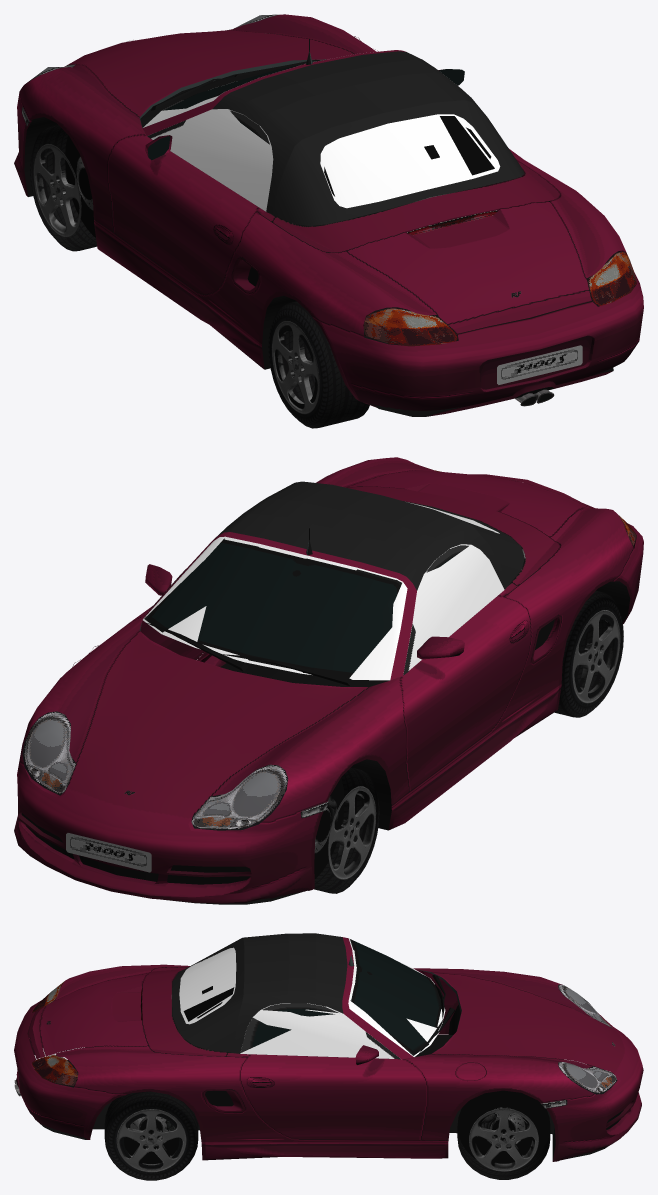
Rendered from ruf_0004.glb.
3 renders of one model, top to bottom at view 1: azimuth 30°, elevation 25°; view 2: azimuth 150°, elevation 25°; view 3: azimuth 270°, elevation 25°, orthographic. The views are drawn at different scales.
Visible parts, largest first — view 1: body, tire_rear_left, tire_front_left, wheel_front_left, wheel_rear_left; view 2: body, tire_rear_left, tire_front_left, wheel_front_left, wheel_rear_left; view 3: body, tire_rear_right, tire_front_right, wheel_front_right, wheel_rear_right.
Boxes of the visible parts, x1=… form: body: x1=14, y1=14, x2=643, y2=416; tire_rear_left: x1=268, y1=301, x2=369, y2=428; tire_front_left: x1=30, y1=125, x2=97, y2=251; wheel_front_left: x1=33, y1=144, x2=81, y2=237; wheel_rear_left: x1=271, y1=321, x2=319, y2=414; body: x1=14, y1=457, x2=643, y2=904; tire_rear_left: x1=554, y1=590, x2=623, y2=717; tire_front_left: x1=314, y1=767, x2=379, y2=893; wheel_front_left: x1=328, y1=786, x2=376, y2=879; wheel_rear_left: x1=572, y1=610, x2=620, y2=703; body: x1=14, y1=933, x2=643, y2=1161; tire_rear_right: x1=104, y1=1091, x2=198, y2=1180; tire_front_right: x1=457, y1=1090, x2=550, y2=1179; wheel_front_right: x1=469, y1=1108, x2=538, y2=1171; wheel_rear_right: x1=116, y1=1109, x2=186, y2=1172.
Size of the model in its own units: 1.83 by 1.38 by 4.32.
37 materials, 36 textured.
